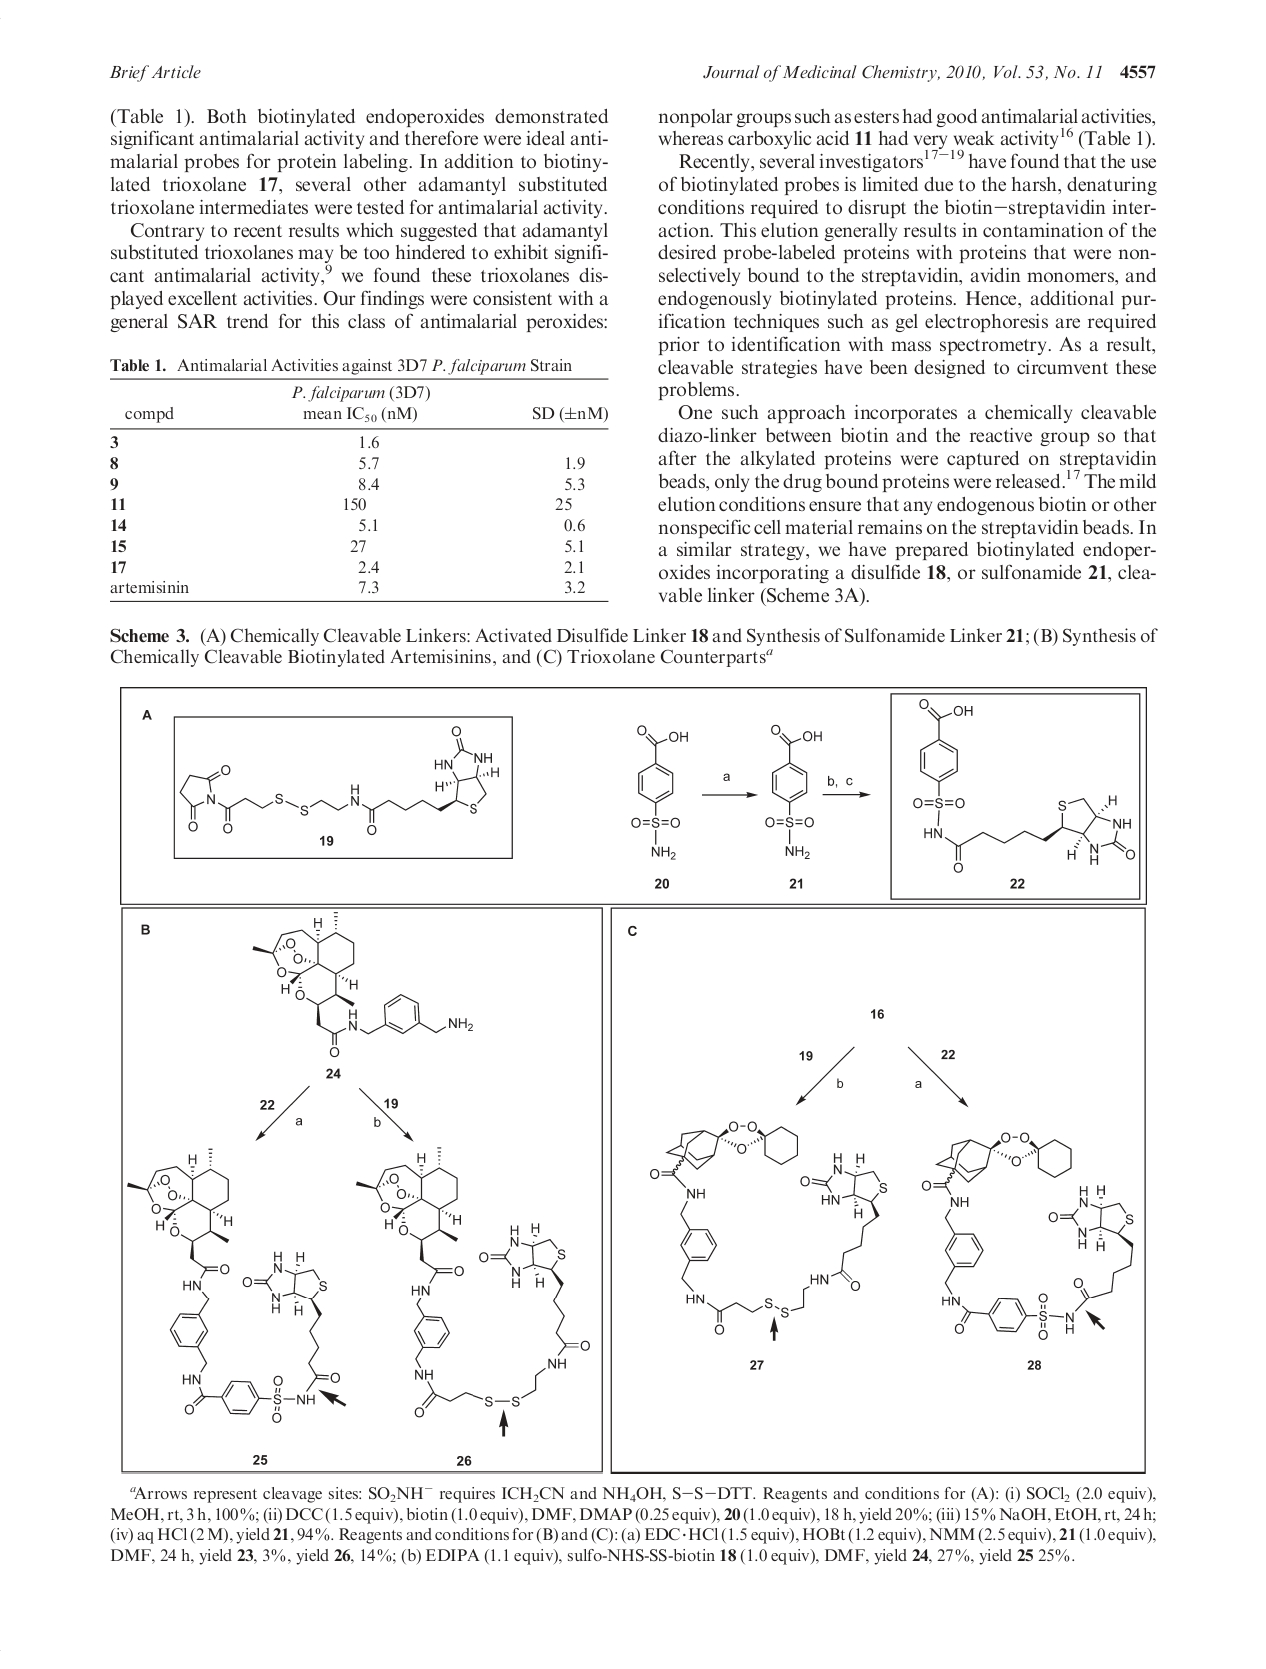exist_molecular: (352, 1145, 594, 1423), (128, 1149, 343, 1424), (644, 1116, 894, 1345), (914, 1128, 1137, 1342), (899, 696, 1136, 872), (178, 723, 504, 838), (251, 907, 480, 1055), (626, 719, 697, 863), (766, 710, 827, 864)
